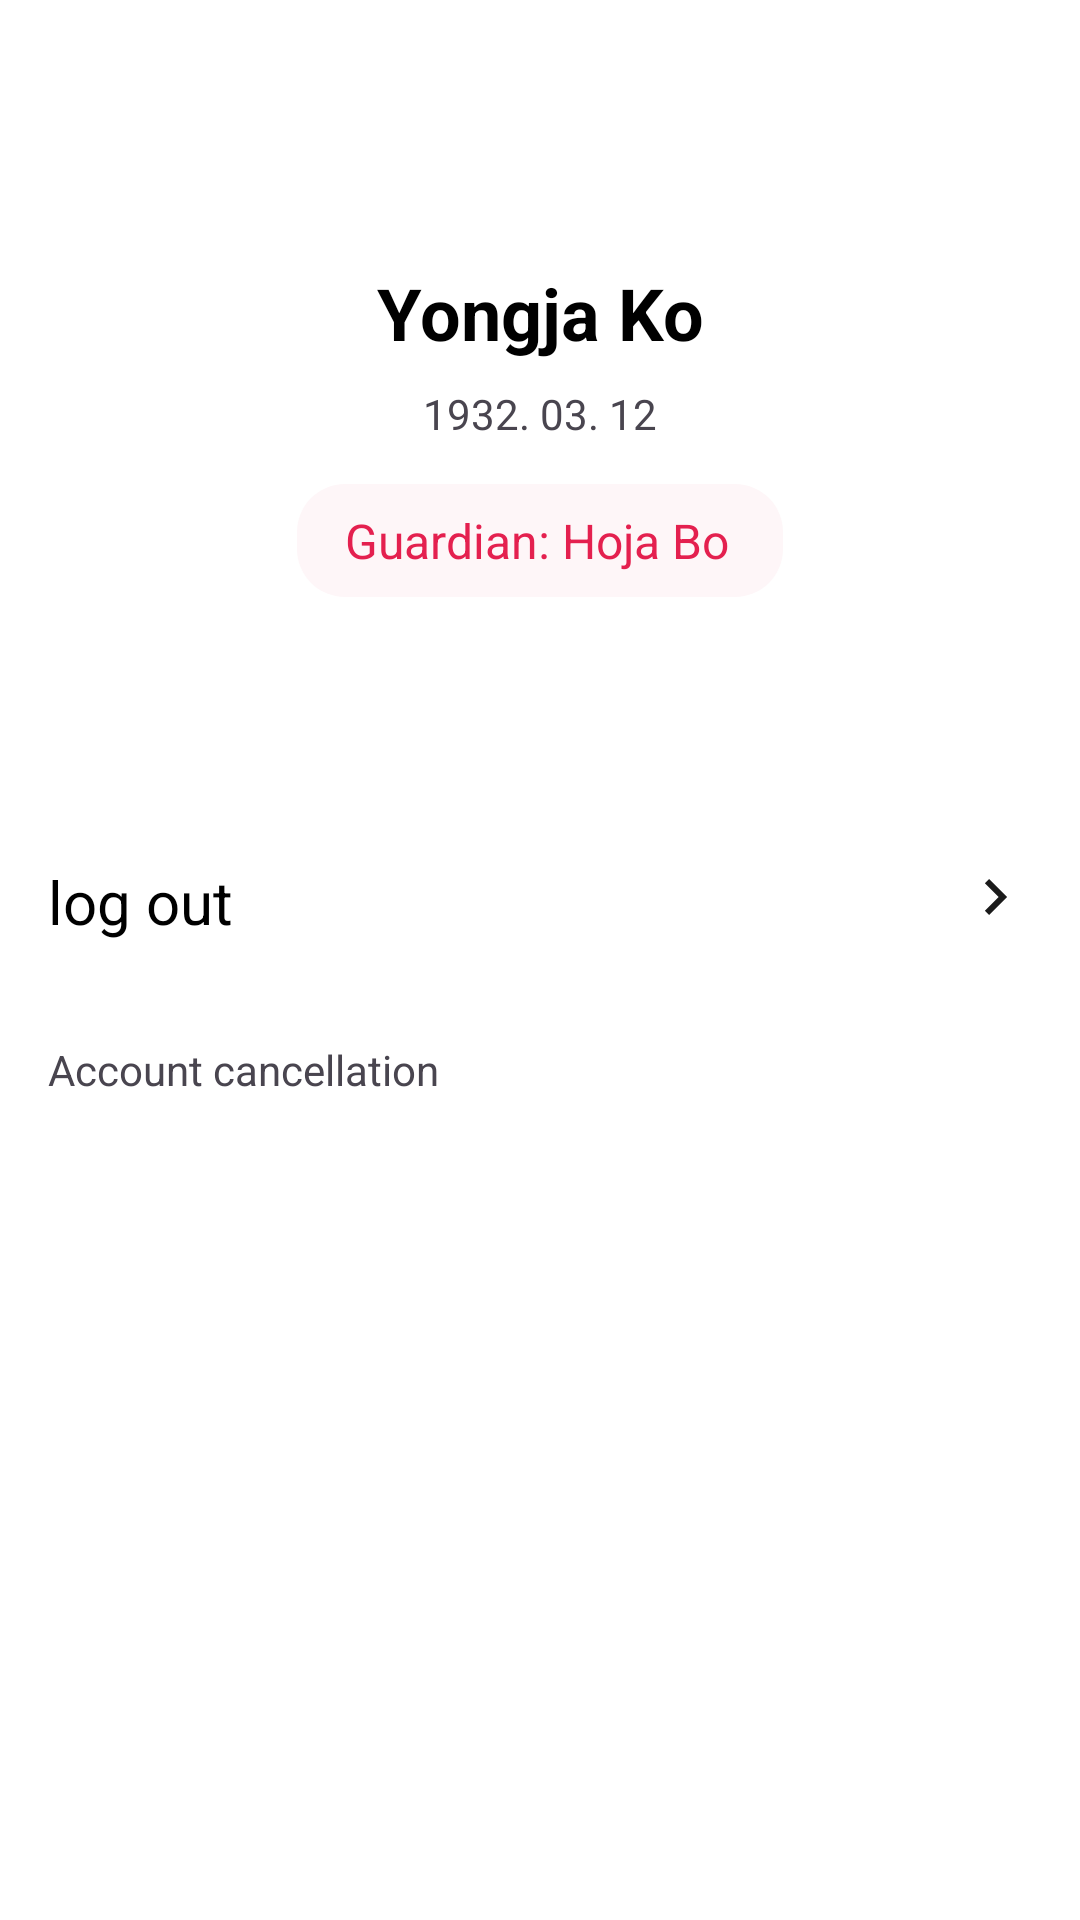

Named icons in this screenshot (1080 x 1920) and their bounding boxes, (x1, y1, x2, y2):
arrow: (985, 879, 1007, 915)
